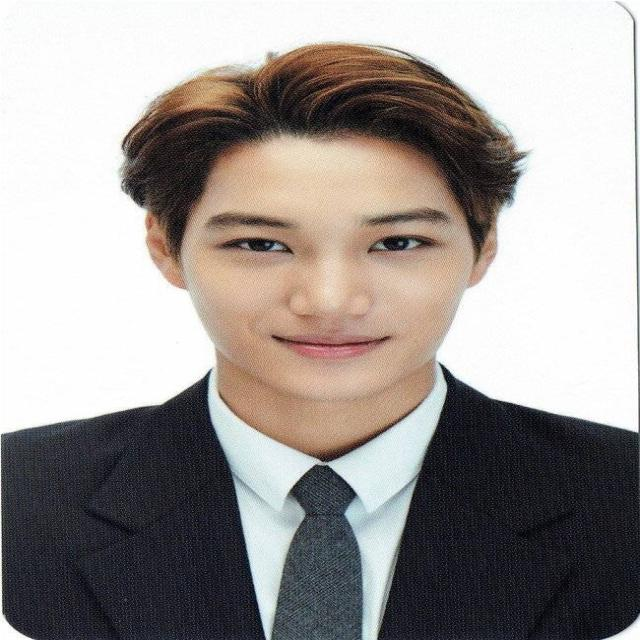Open: (217, 234, 296, 256), (364, 232, 438, 255)
